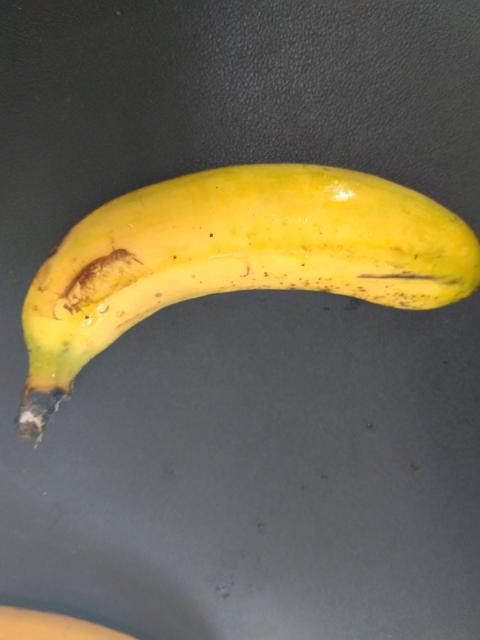ripe: (10, 156, 479, 385)
